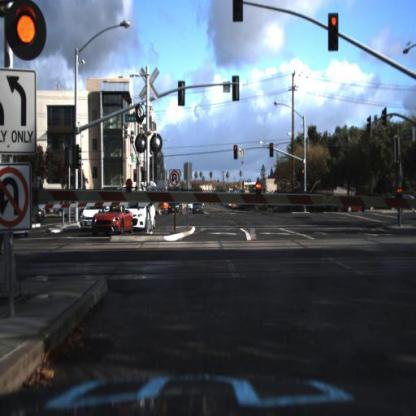car: (90, 203, 133, 236), (51, 197, 93, 223), (124, 198, 156, 232), (77, 199, 104, 231), (342, 194, 378, 217), (30, 213, 46, 234), (169, 196, 183, 217), (32, 202, 49, 215), (335, 199, 347, 216), (193, 199, 204, 215), (170, 203, 182, 215)
pedestrian: (396, 185, 406, 227)
trafficLight: (324, 9, 345, 58), (233, 138, 243, 164), (234, 2, 245, 25)
trafficLight-Red: (1, 1, 69, 66), (12, 3, 44, 55), (329, 14, 340, 52), (267, 140, 277, 161), (301, 162, 310, 181), (234, 144, 239, 161), (271, 142, 275, 158)
